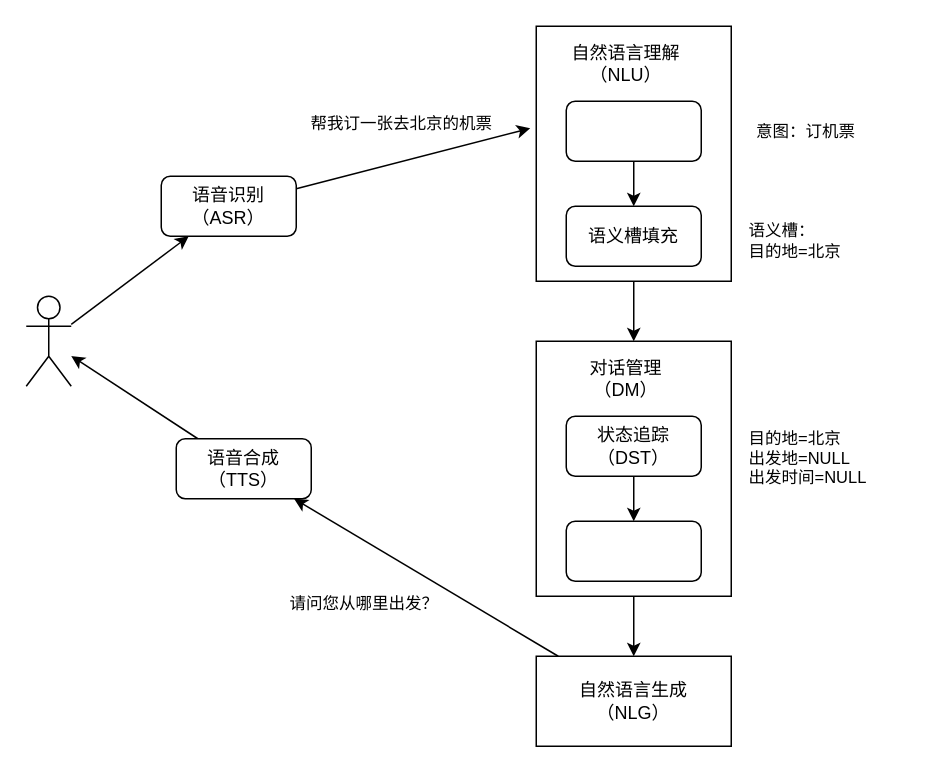
Image size: 938x773. Some labels were removed from this diagram. The shapes that lost their labels are listed below. From the top down, each one's centre as x and y in pixels, then its label:
At (633,130): "意图识别".
At (48,340): "Actor".
At (633,550): "策略优化（DPO）".
